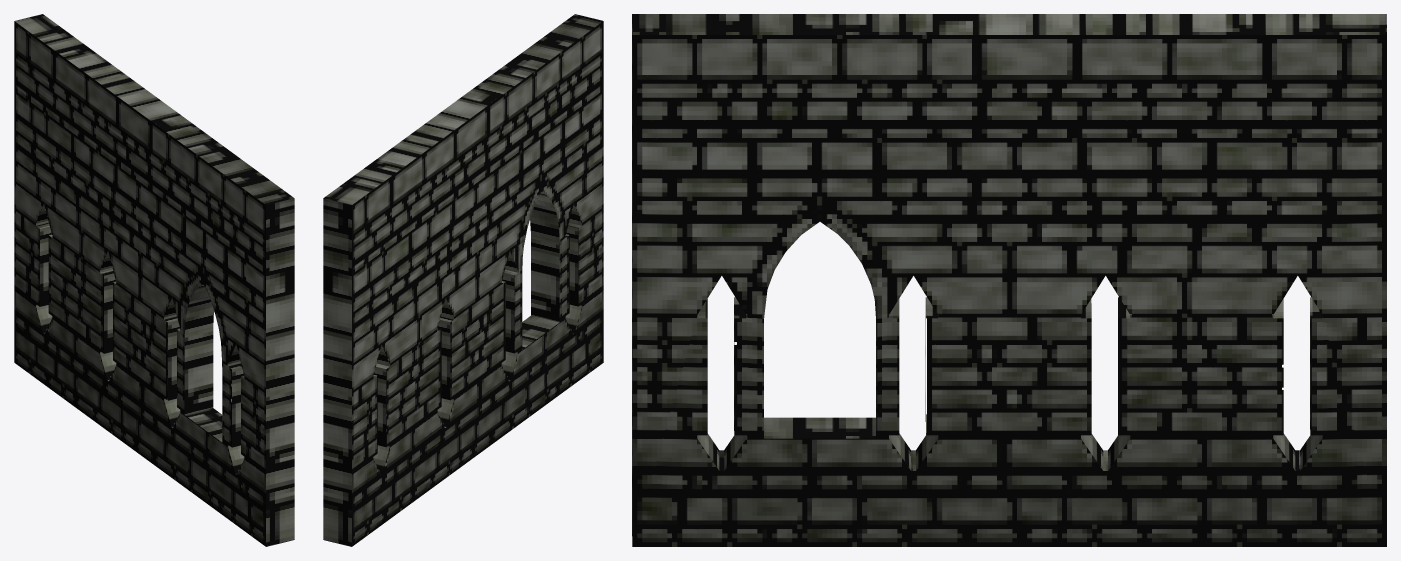
Rendered from Wall_1.fbx.
3 renders of one model, left to right at view 1: azimuth 30°, elevation 25°; view 2: azimuth 150°, elevation 25°; view 3: azimuth 270°, elevation 25°, orthographic. The views are drawn at different scales.
Visible parts, largest first — view 1: Wall.006; view 2: Wall.006; view 3: Wall.006.
Boxes of the visible parts, x1,y1,x2,y2 form: Wall.006: (14,14,294,546); Wall.006: (323,14,603,546); Wall.006: (632,14,1386,546).
Bounding box in the file's own units: 130 × 1491 × 1991.
1 material, 1 textured.
